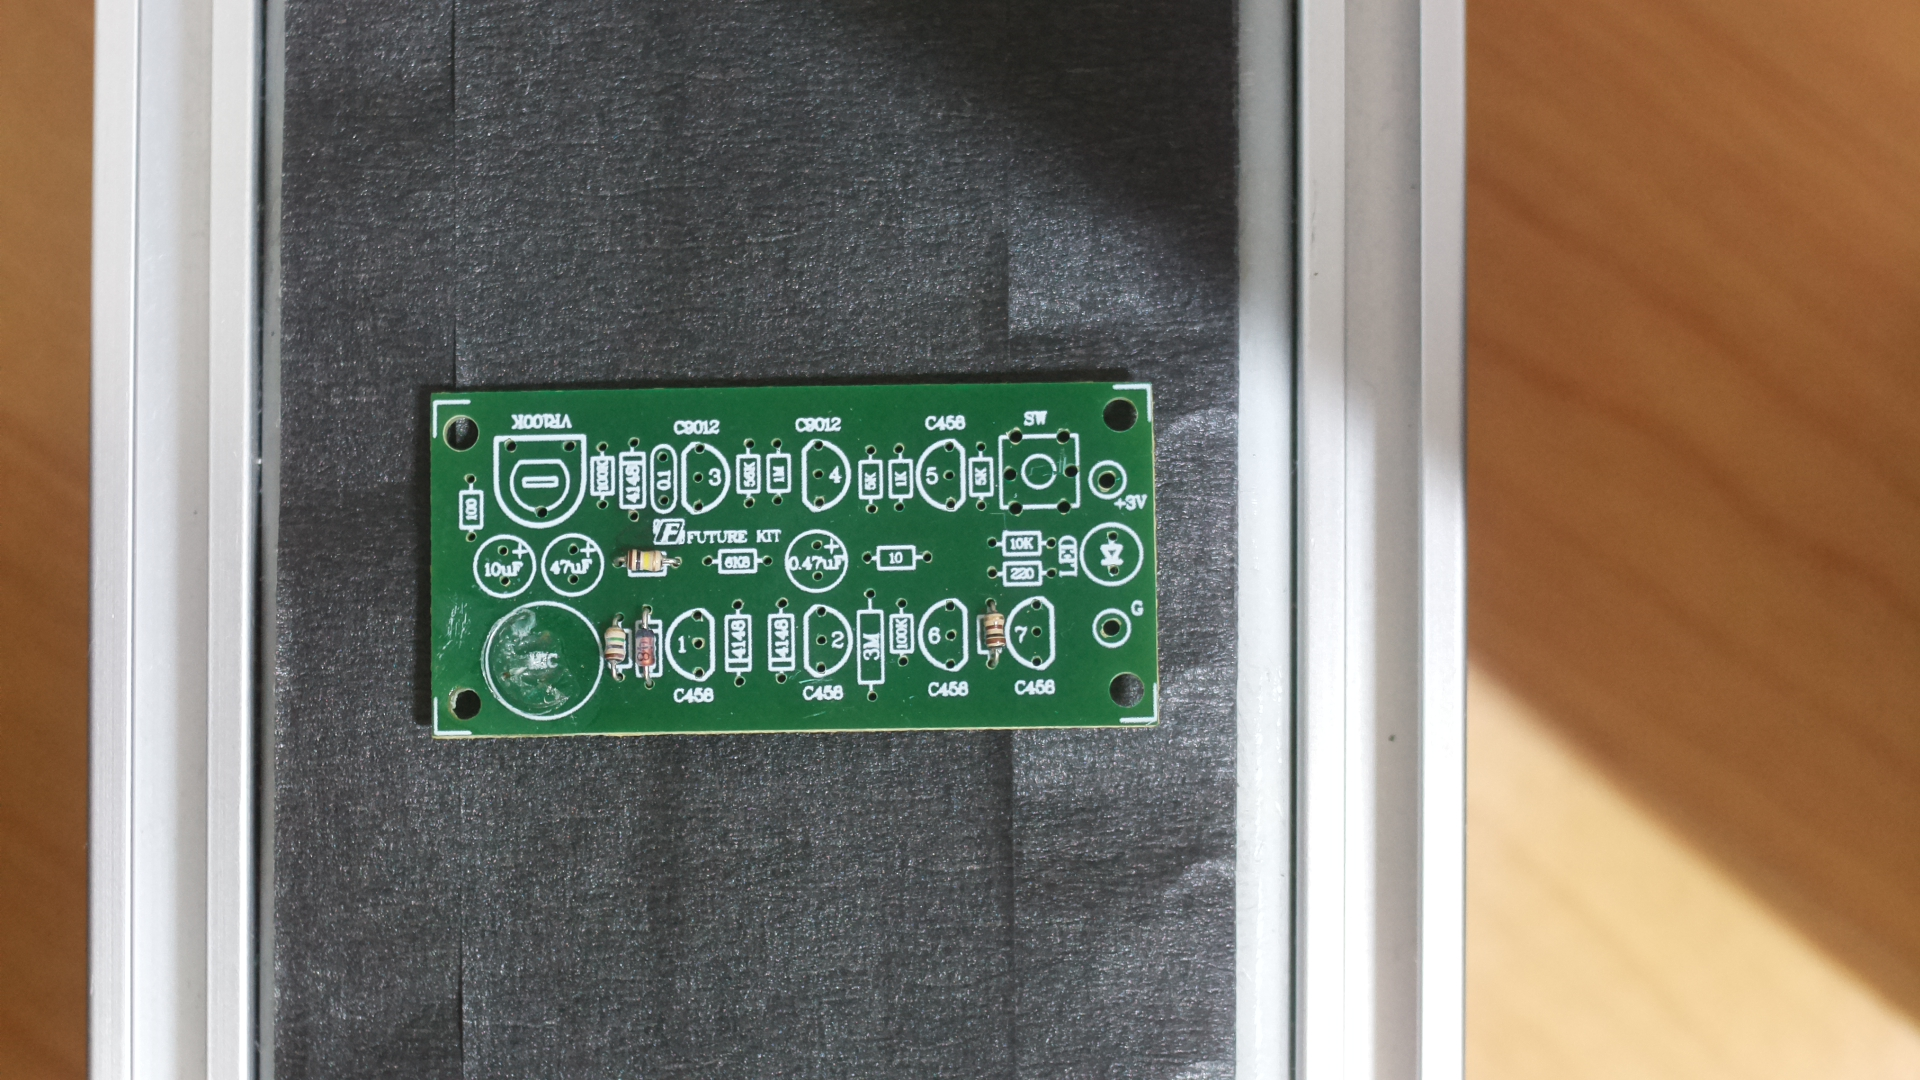A_Missing_part: (422, 372, 1180, 744)
